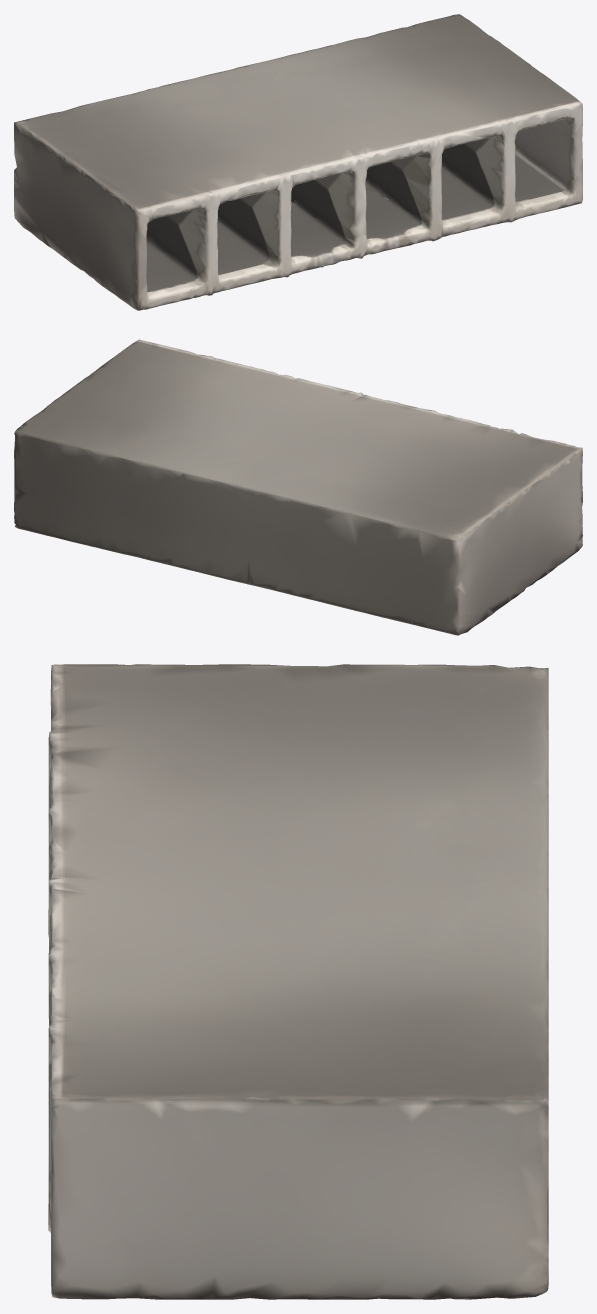
The model's file is base_basic_pbr.glb.
3 views of the same model, one above another, from view 1: azimuth 30°, elevation 25°; view 2: azimuth 150°, elevation 25°; view 3: azimuth 270°, elevation 25° (orthographic). The views are drawn at different scales.
Visible parts, largest first — view 1: model; view 2: model; view 3: model.
Part boxes in pixels (x1,y1,x2,y2): model: (14, 14, 582, 310); model: (14, 339, 582, 635); model: (48, 664, 548, 1299).
Bounding box in the file's own units: 1.9 × 0.4169 × 0.9255.
1 material, 1 textured.
